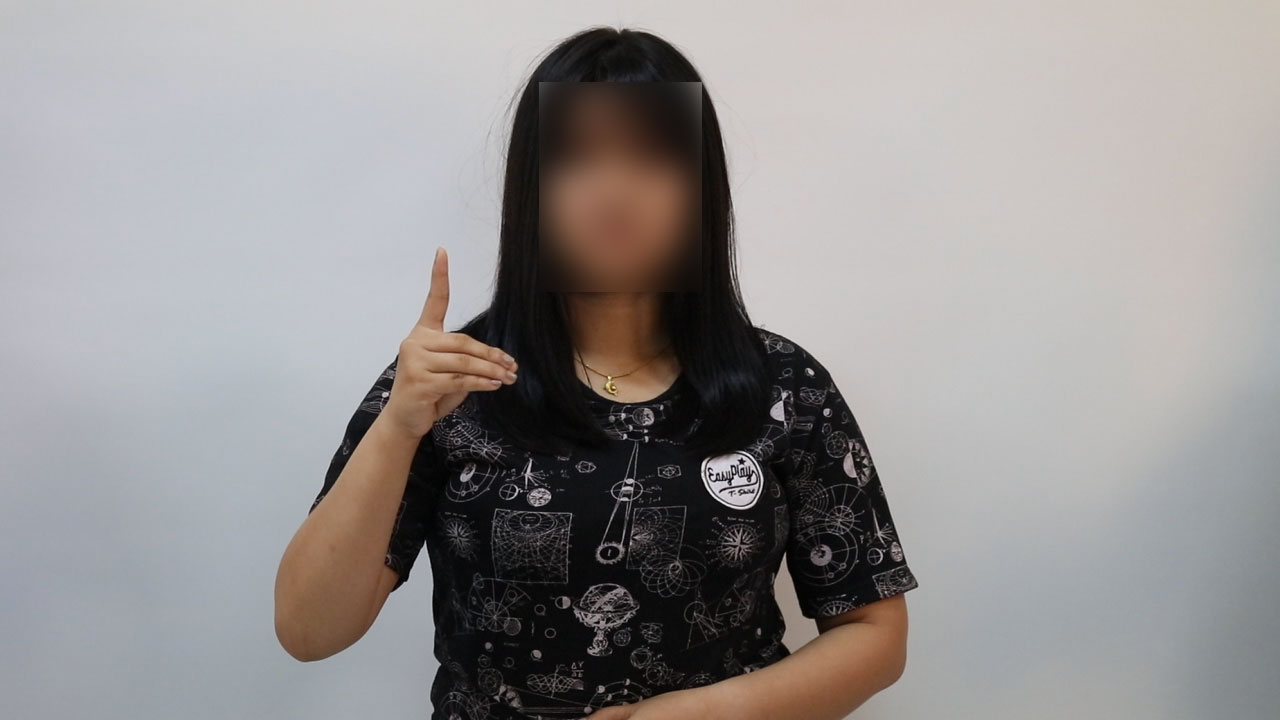dor: (366, 240, 523, 438)
